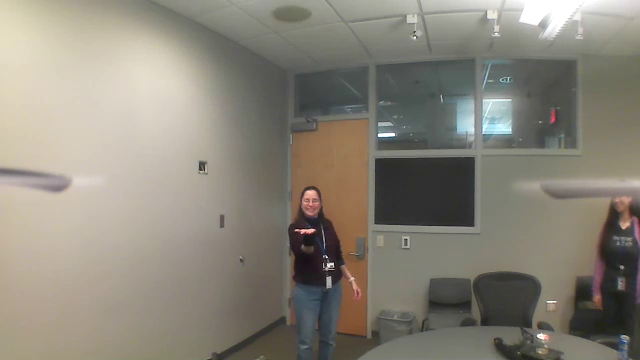land: (291, 224, 318, 240)
